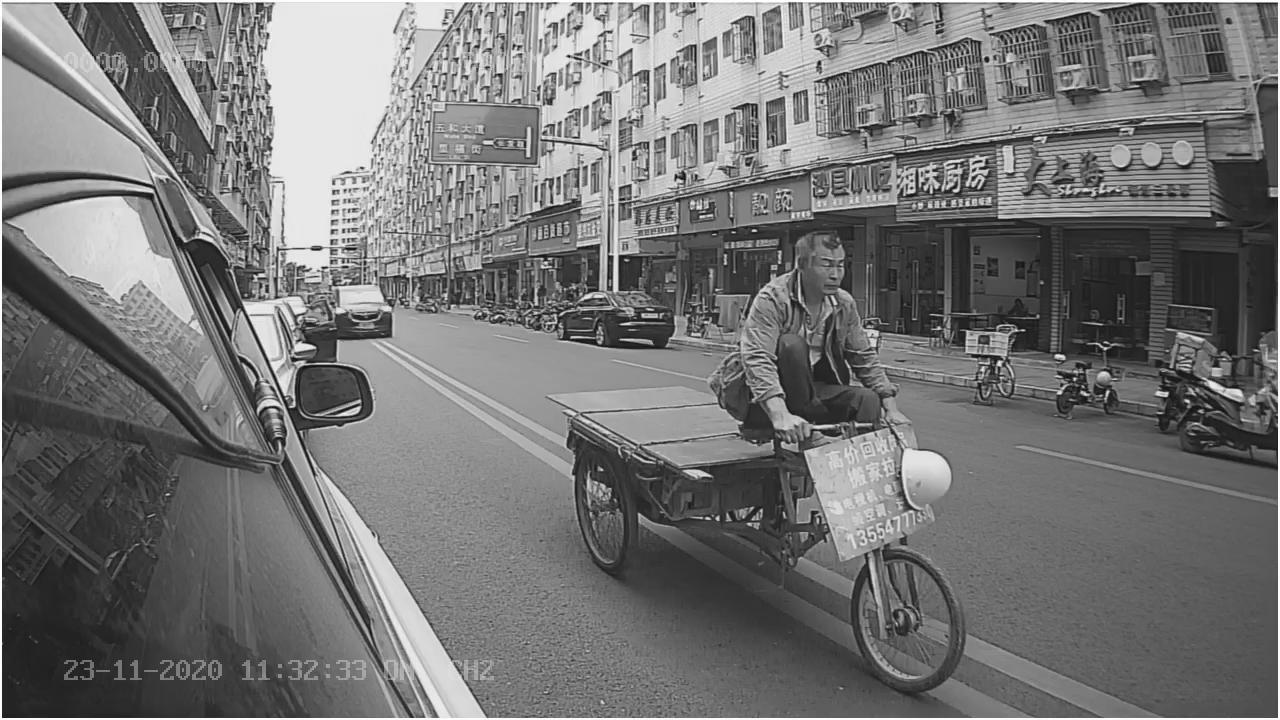person: (710, 200, 915, 445)
